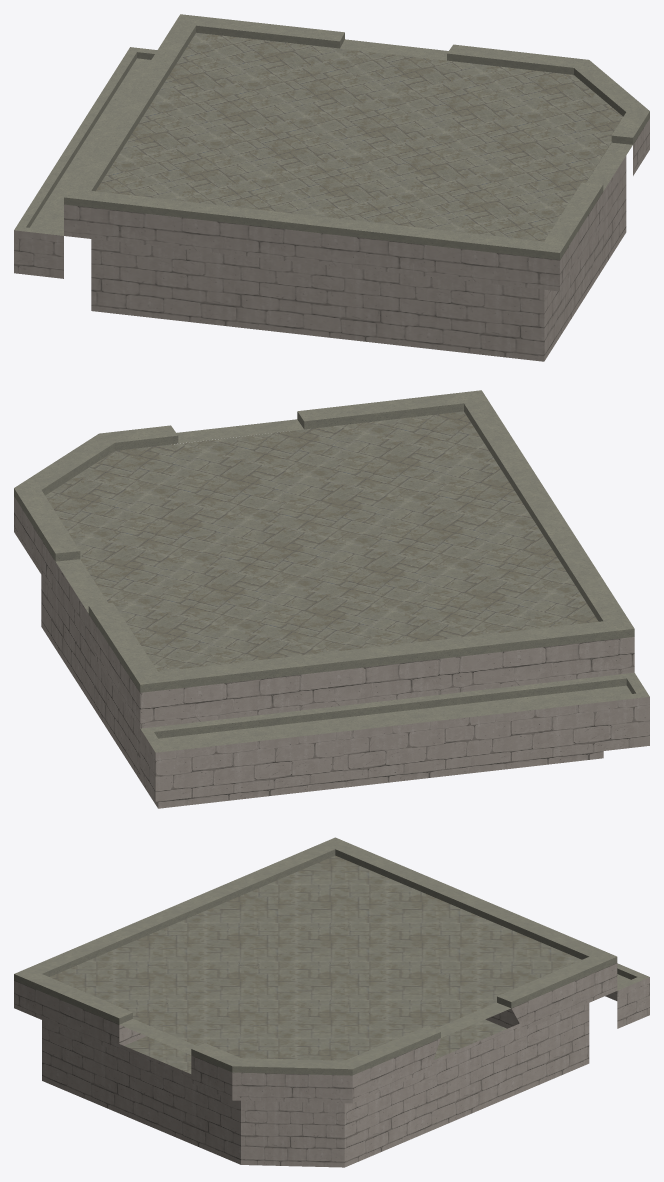
Rendered from AD_Ground_O_01.fbx.
3 views of the same model, one above another, from view 1: azimuth 30°, elevation 25°; view 2: azimuth 150°, elevation 25°; view 3: azimuth 270°, elevation 25° (orthographic). The views are drawn at different scales.
Visible parts, largest first — view 1: AD_Ground_O_01; view 2: AD_Ground_O_01; view 3: AD_Ground_O_01.
Part boxes in pixels (x1,y1,x2,y2): AD_Ground_O_01: [14, 14, 649, 361]; AD_Ground_O_01: [14, 390, 649, 808]; AD_Ground_O_01: [14, 837, 649, 1167].
Size of the model in its own units: 6386 by 1295 by 6988.
Materials: 3 (3 with a texture image).
